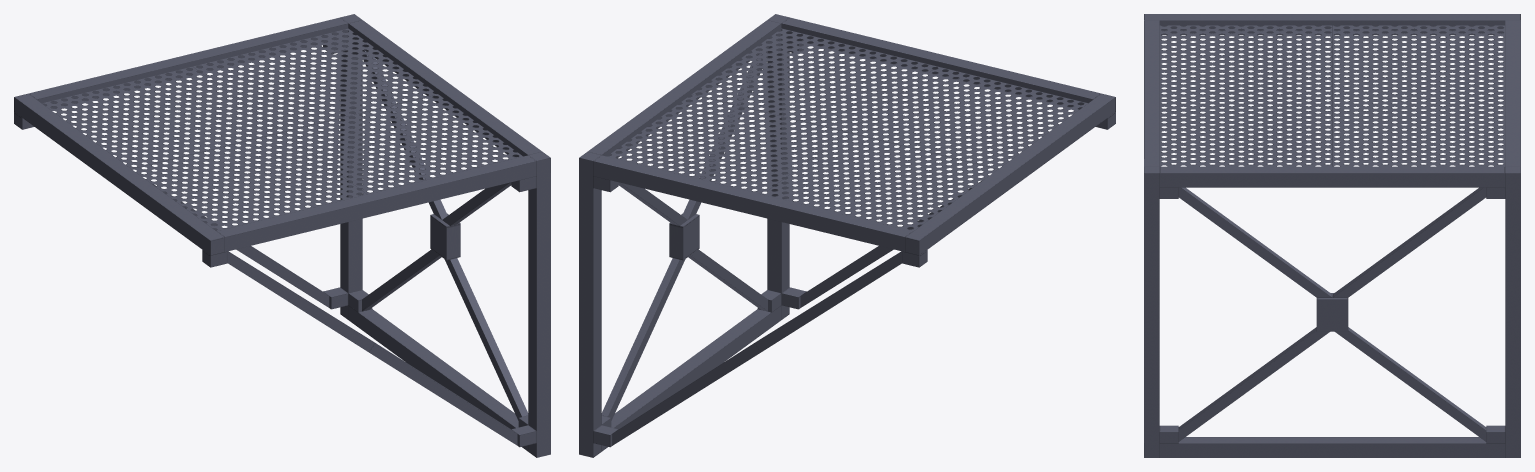
Rendered from Platerform_Metal_07.FBX.
3 renders of one model, left to right at view 1: azimuth 30°, elevation 25°; view 2: azimuth 150°, elevation 25°; view 3: azimuth 270°, elevation 25°, orthographic. The views are drawn at different scales.
Visible parts, largest first — view 1: Platerform_Metal_07; view 2: Platerform_Metal_07; view 3: Platerform_Metal_07.
Part boxes in pixels (x1,y1,x2,y2): Platerform_Metal_07: (14,14,550,457); Platerform_Metal_07: (579,14,1115,457); Platerform_Metal_07: (1144,14,1520,457).
Size of the model in its own units: 6 by 5 by 6.
Materials: 3 (3 with a texture image).
